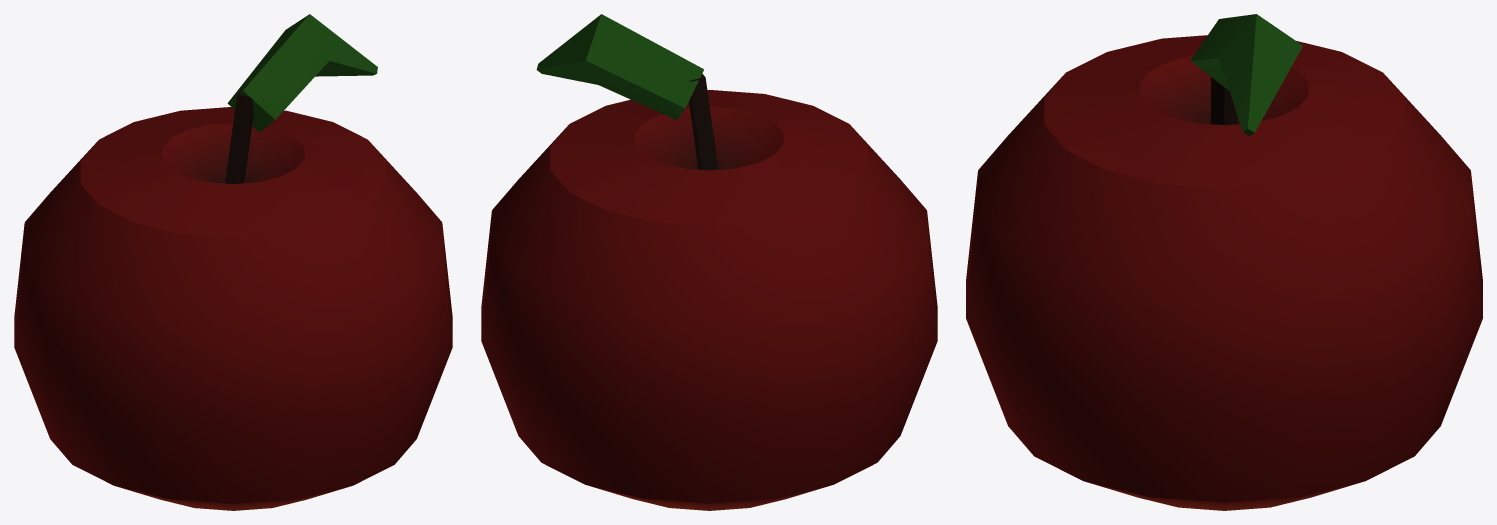
Rendered from mkt-apple.glb.
3 renders of one model, left to right at view 1: azimuth 30°, elevation 25°; view 2: azimuth 150°, elevation 25°; view 3: azimuth 270°, elevation 25°, orthographic. The views are drawn at different scales.
Parts seen in each view (by area): view 1: fruit__sauce, leaf__plant; view 2: fruit__sauce, leaf__plant; view 3: fruit__sauce, leaf__plant.
Part boxes in pixels (x1=…): fruit__sauce: x1=14, y1=90, x2=452, y2=510; leaf__plant: x1=227, y1=14, x2=377, y2=132; fruit__sauce: x1=481, y1=74, x2=937, y2=510; leaf__plant: x1=536, y1=14, x2=703, y2=120; fruit__sauce: x1=966, y1=35, x2=1482, y2=510; leaf__plant: x1=1190, y1=14, x2=1302, y2=135.
Bounding box in the file's own units: 0.086 × 0.089 × 0.0847.
